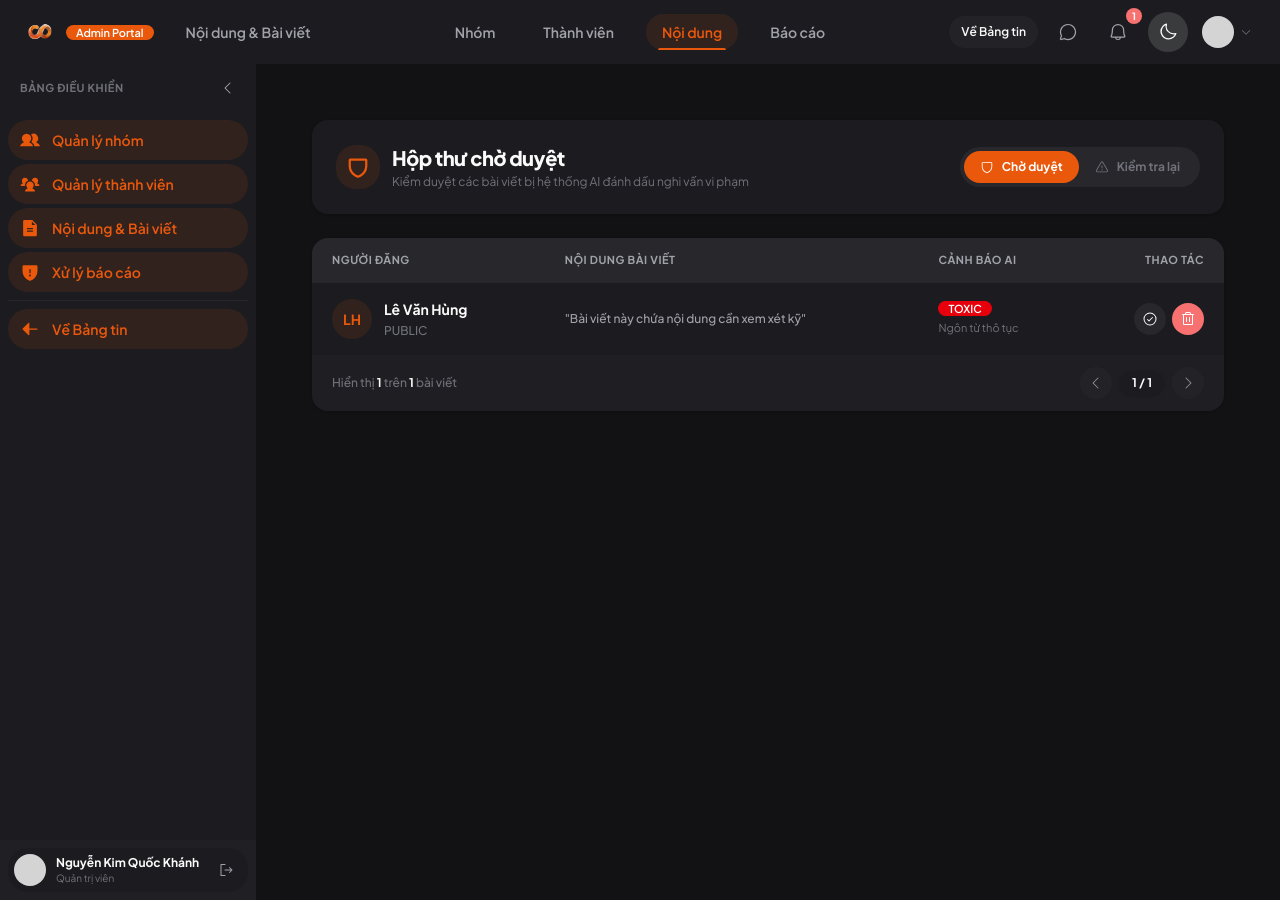
Test: PR #24: Admin Portal Suite › <MainFeedManager /> › renders pending posts with AI badge and switches tabs
Expected: the heading "Hộp thư chờ duyệt" is shown, top-left (392, 145), bottom-right (565, 170)
Expected: the text "\"Bài viết này chứa nội dung cần xem xét kỹ\"" is shown, top-left (565, 311), bottom-right (806, 326)
Click the button "Kiểm tra lại".
click(1137, 167)  # box top-left (1079, 151), bottom-right (1196, 183)
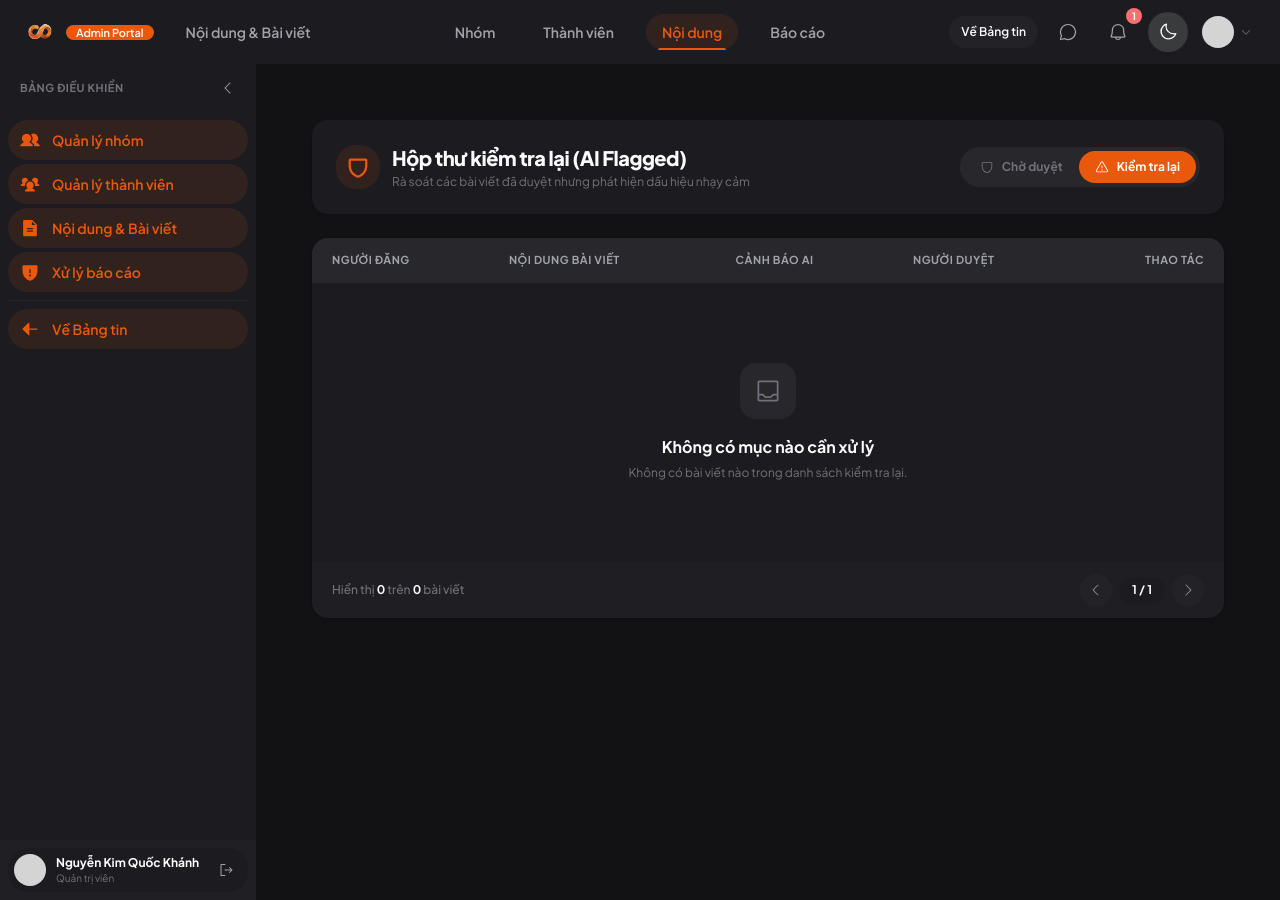
Now the heading "Hộp thư kiểm tra lại (AI Flagged)" is shown, box top-left (392, 145), bottom-right (687, 170)
